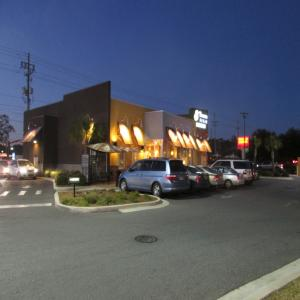Vehicle-registration-plate: (180, 178, 184, 182)
